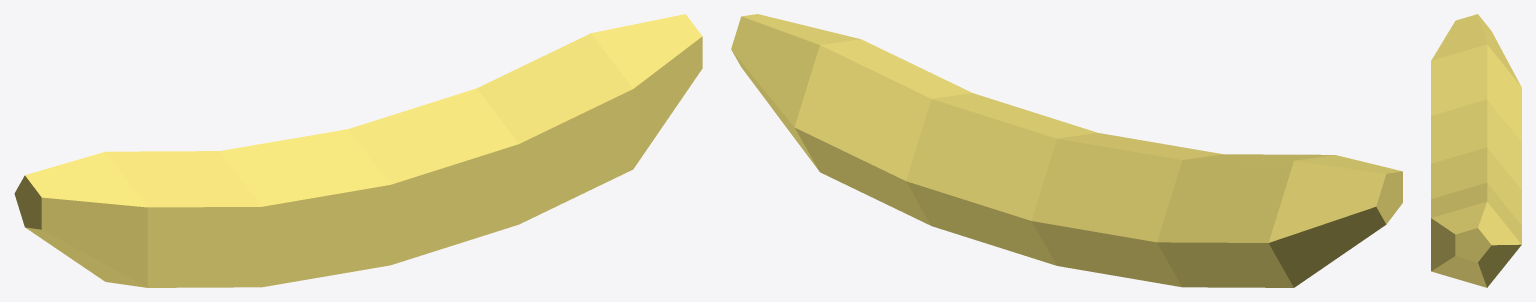
The model's file is Basura_Organico_Platano.fbx.
3 views of the same model, side by side, from view 1: azimuth 30°, elevation 25°; view 2: azimuth 150°, elevation 25°; view 3: azimuth 270°, elevation 25° (orthographic). The views are drawn at different scales.
Parts seen in each view (by area): view 1: Basura_Organico_Platano; view 2: Basura_Organico_Platano; view 3: Basura_Organico_Platano.
Boxes of the visible parts, bbox=[...] form: Basura_Organico_Platano: bbox=[14, 14, 702, 287]; Basura_Organico_Platano: bbox=[731, 14, 1402, 287]; Basura_Organico_Platano: bbox=[1431, 14, 1521, 287].
Size of the model in its own units: 1.01 by 0.2481 by 0.1809.
1 material, 1 textured.
